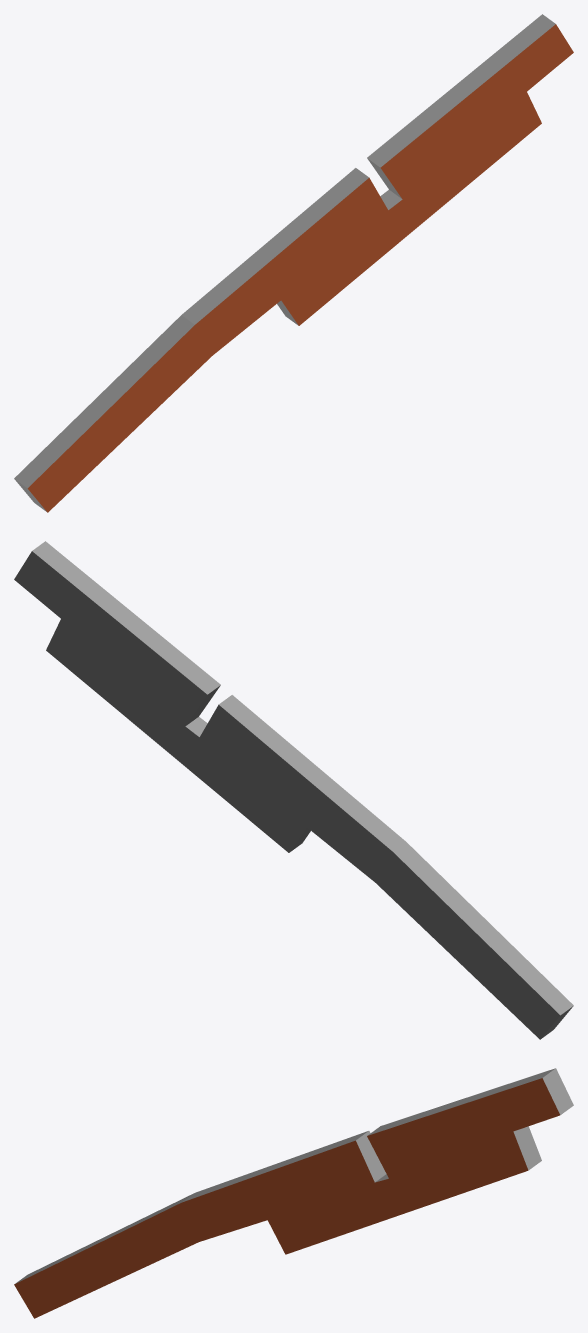
The model's file is construction_0072_assumed_A_Estufa_h6m.obj.
3 views of the same model, one above another, from view 1: azimuth 30°, elevation 25°; view 2: azimuth 150°, elevation 25°; view 3: azimuth 330°, elevation 25° (orthographic).
Visible parts, largest first — view 1: construction_0072_assumed_A_Estufa; view 2: construction_0072_assumed_A_Estufa; view 3: construction_0072_assumed_A_Estufa.
Part boxes in pixels (left/top/right/bottom): construction_0072_assumed_A_Estufa: left=14, top=14, right=573, bottom=512; construction_0072_assumed_A_Estufa: left=14, top=541, right=573, bottom=1039; construction_0072_assumed_A_Estufa: left=14, top=1068, right=573, bottom=1318.
Bounding box in the file's own units: 140 × 89.1 × 6.
